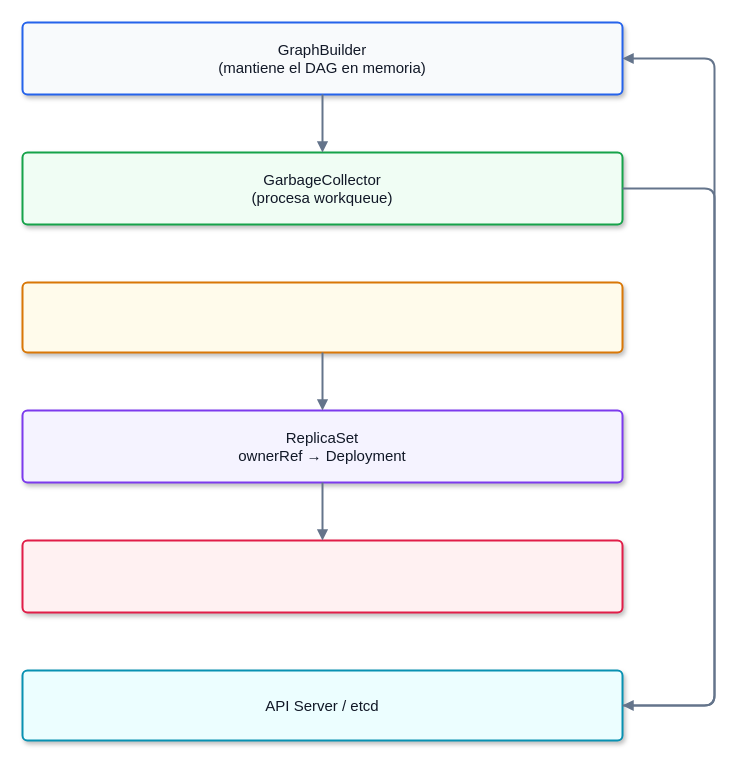
Image size: 740x765. Some labels were removed from this diagram. Each missing label, with the centre of its shape:
"Deployment" goes at (x=323, y=318).
"Pod ownerRef → ReplicaSet" goes at (x=323, y=577).
